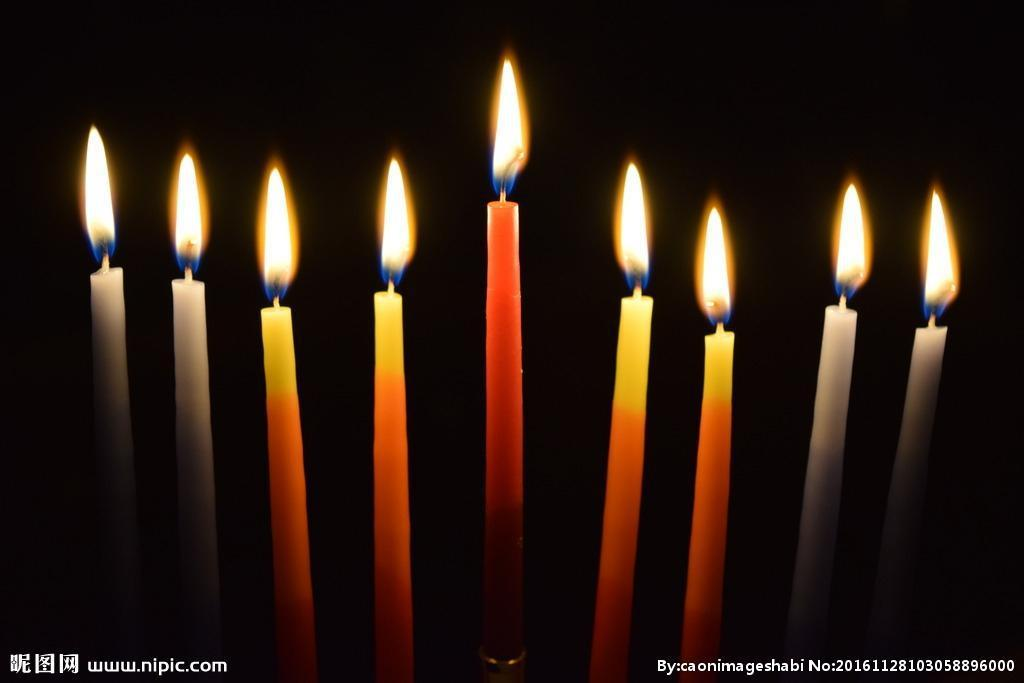fire: (471, 50, 550, 213), (352, 141, 433, 295), (60, 115, 134, 264), (244, 157, 317, 298), (607, 138, 669, 303), (150, 135, 219, 274), (824, 164, 883, 307), (910, 177, 965, 322), (692, 185, 737, 334)
